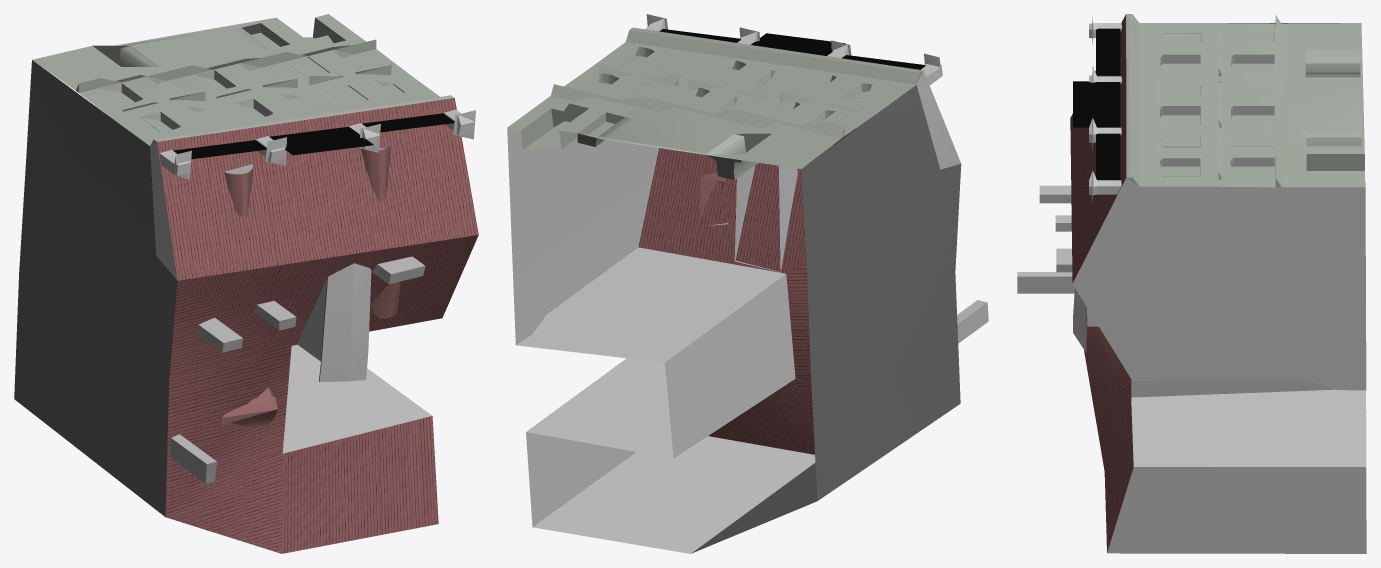
The model's file is Viru-6-origo.obj.
The picture shows the model from 3 angles, left to right: view 1: azimuth 30°, elevation 25°; view 2: azimuth 150°, elevation 25°; view 3: azimuth 270°, elevation 25°; orthographic projection. The views are drawn at different scales.
Visible parts, largest first — view 1: Viru_6; view 2: Viru_6; view 3: Viru_6.
Boxes of the visible parts, box(x1,y1,x2,y2) form: Viru_6: box(14, 14, 478, 553); Viru_6: box(507, 14, 988, 553); Viru_6: box(1017, 14, 1366, 553).
Size of the model in its own units: 17.38 by 23 by 17.55.
